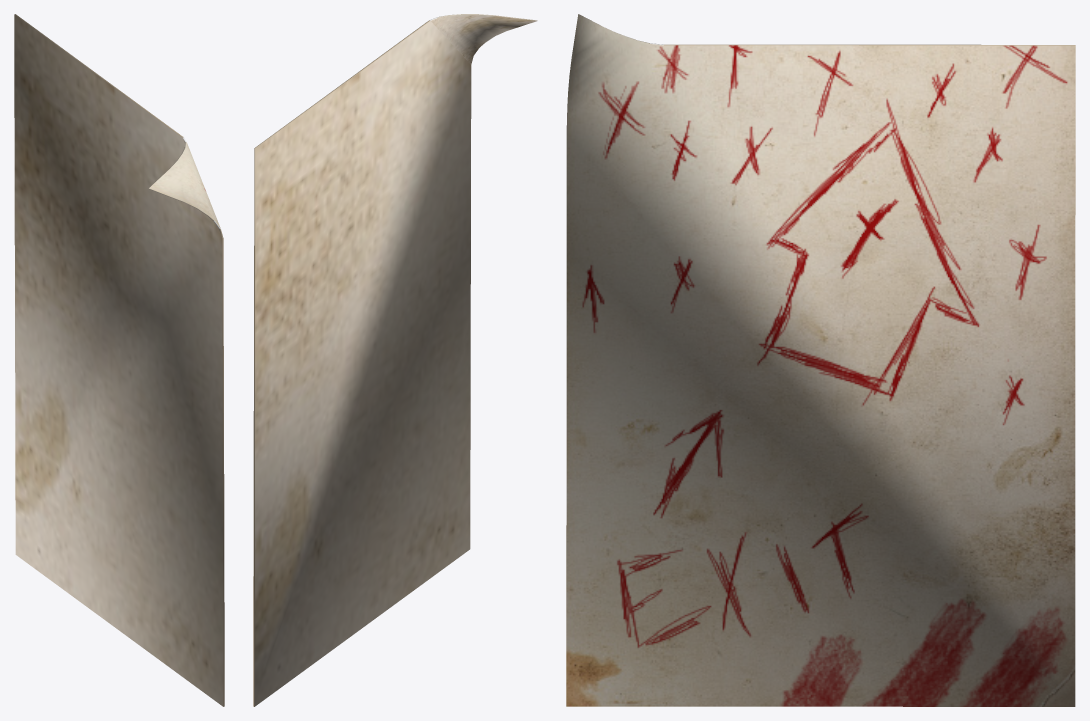
The model's file is NotaChurch.fbx.
The picture shows the model from 3 angles, left to right: view 1: azimuth 30°, elevation 25°; view 2: azimuth 150°, elevation 25°; view 3: azimuth 270°, elevation 25°; orthographic projection. The views are drawn at different scales.
Visible parts, largest first — view 1: Plane; view 2: Plane; view 3: Plane.
Part boxes in pixels (left/top/right/bottom): Plane: left=14, top=14, right=224, bottom=706; Plane: left=253, top=14, right=537, bottom=706; Plane: left=566, top=14, right=1075, bottom=706.
Size of the model in its own units: 4.56 by 32.72 by 22.85.
